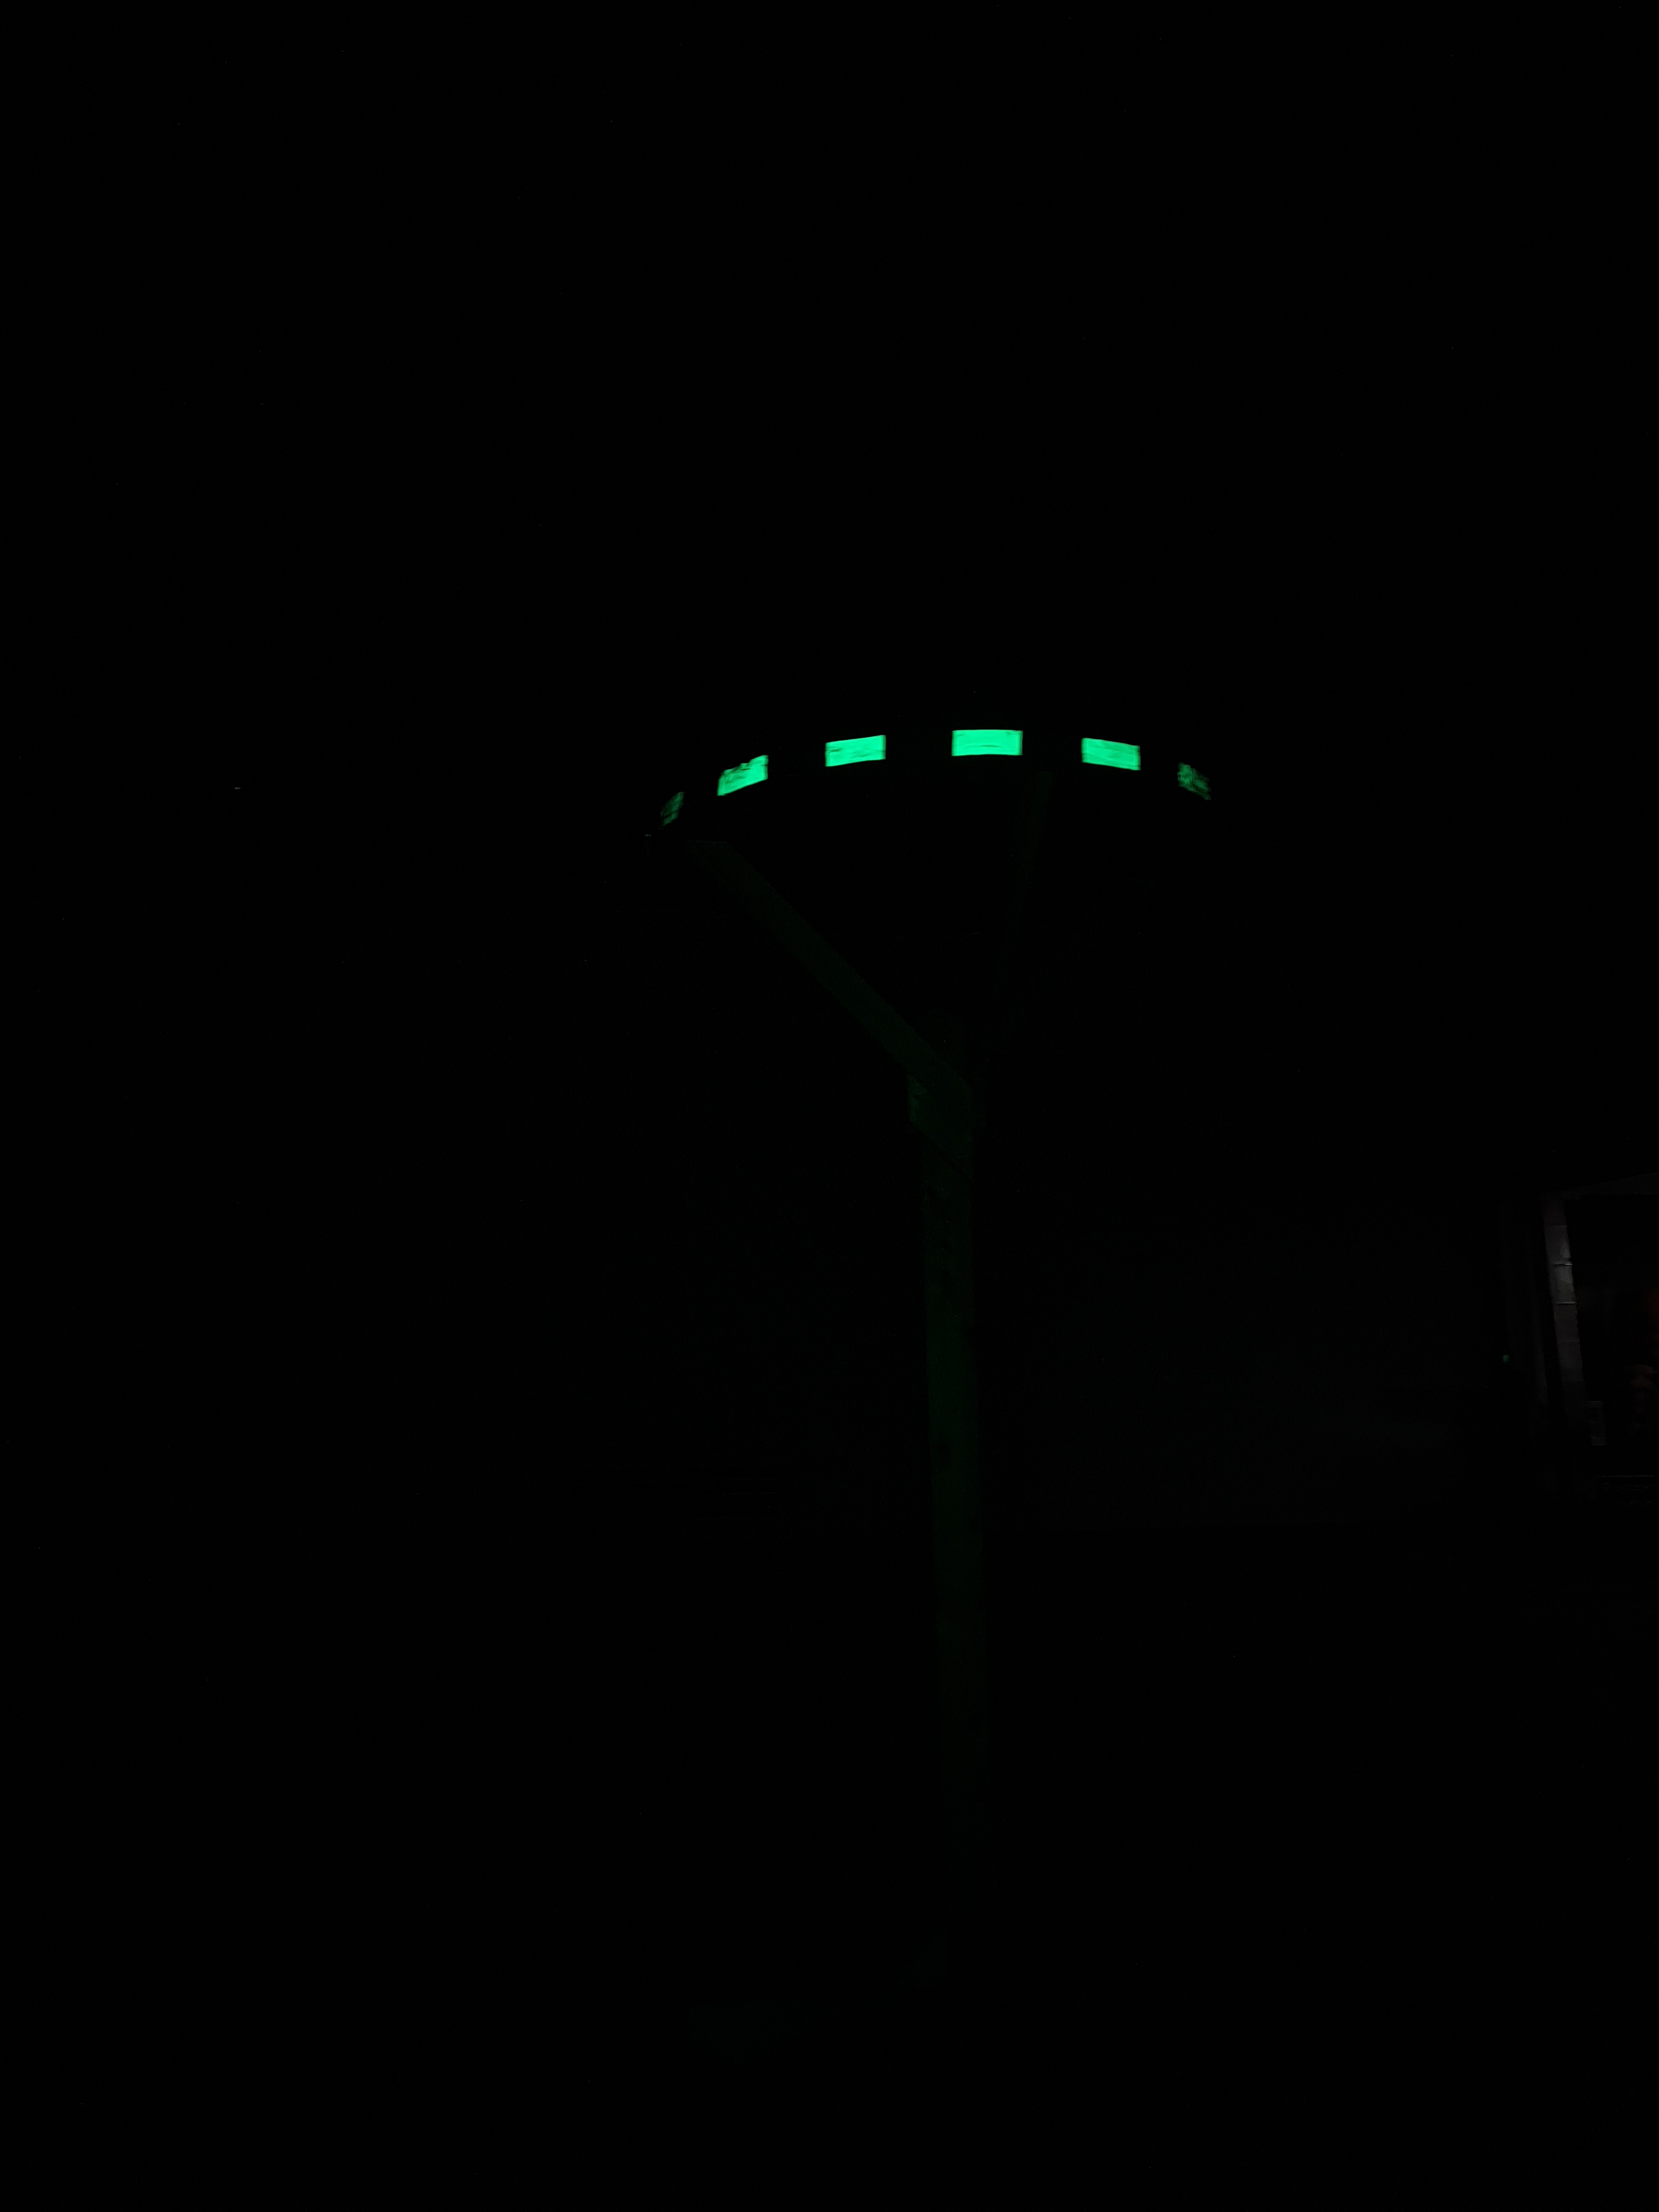hoop: (648, 726, 1225, 806)
